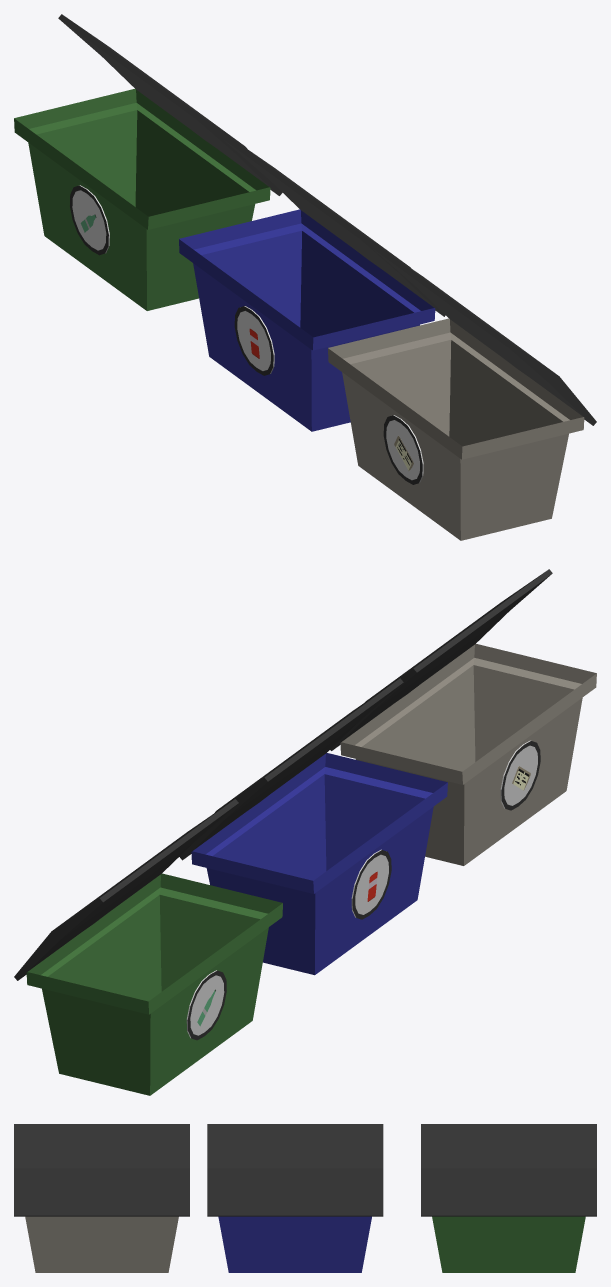
Rendered from cont.fbx.
3 views of the same model, one above another, from view 1: azimuth 30°, elevation 25°; view 2: azimuth 150°, elevation 25°; view 3: azimuth 270°, elevation 25° (orthographic). The views are drawn at different scales.
Visible parts, largest first — view 1: cont musor gazeta, cont musor, cont musor banka; view 2: cont musor, cont musor banka, cont musor gazeta; view 3: cont musor banka, cont musor, cont musor gazeta.
Boxes of the visible parts, bbox=[...] form: cont musor gazeta: bbox=[328, 244, 596, 540]; cont musor: bbox=[14, 14, 282, 310]; cont musor banka: bbox=[179, 135, 445, 431]; cont musor: bbox=[14, 799, 282, 1095]; cont musor banka: bbox=[179, 678, 447, 975]; cont musor gazeta: bbox=[330, 569, 596, 865]; cont musor banka: bbox=[207, 1124, 383, 1272]; cont musor: bbox=[421, 1124, 596, 1272]; cont musor gazeta: bbox=[14, 1124, 189, 1272].
Bounding box in the file's own units: 664 × 956 × 3866.
